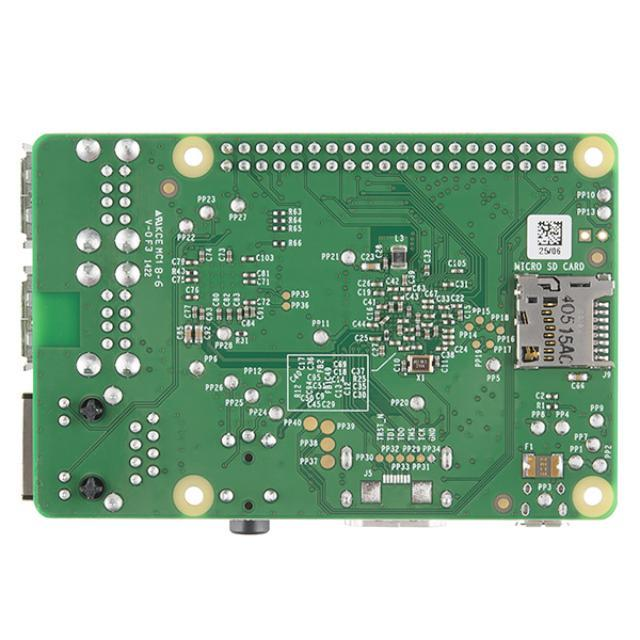Raspberry Pi 1 B-: (28, 134, 618, 533)
